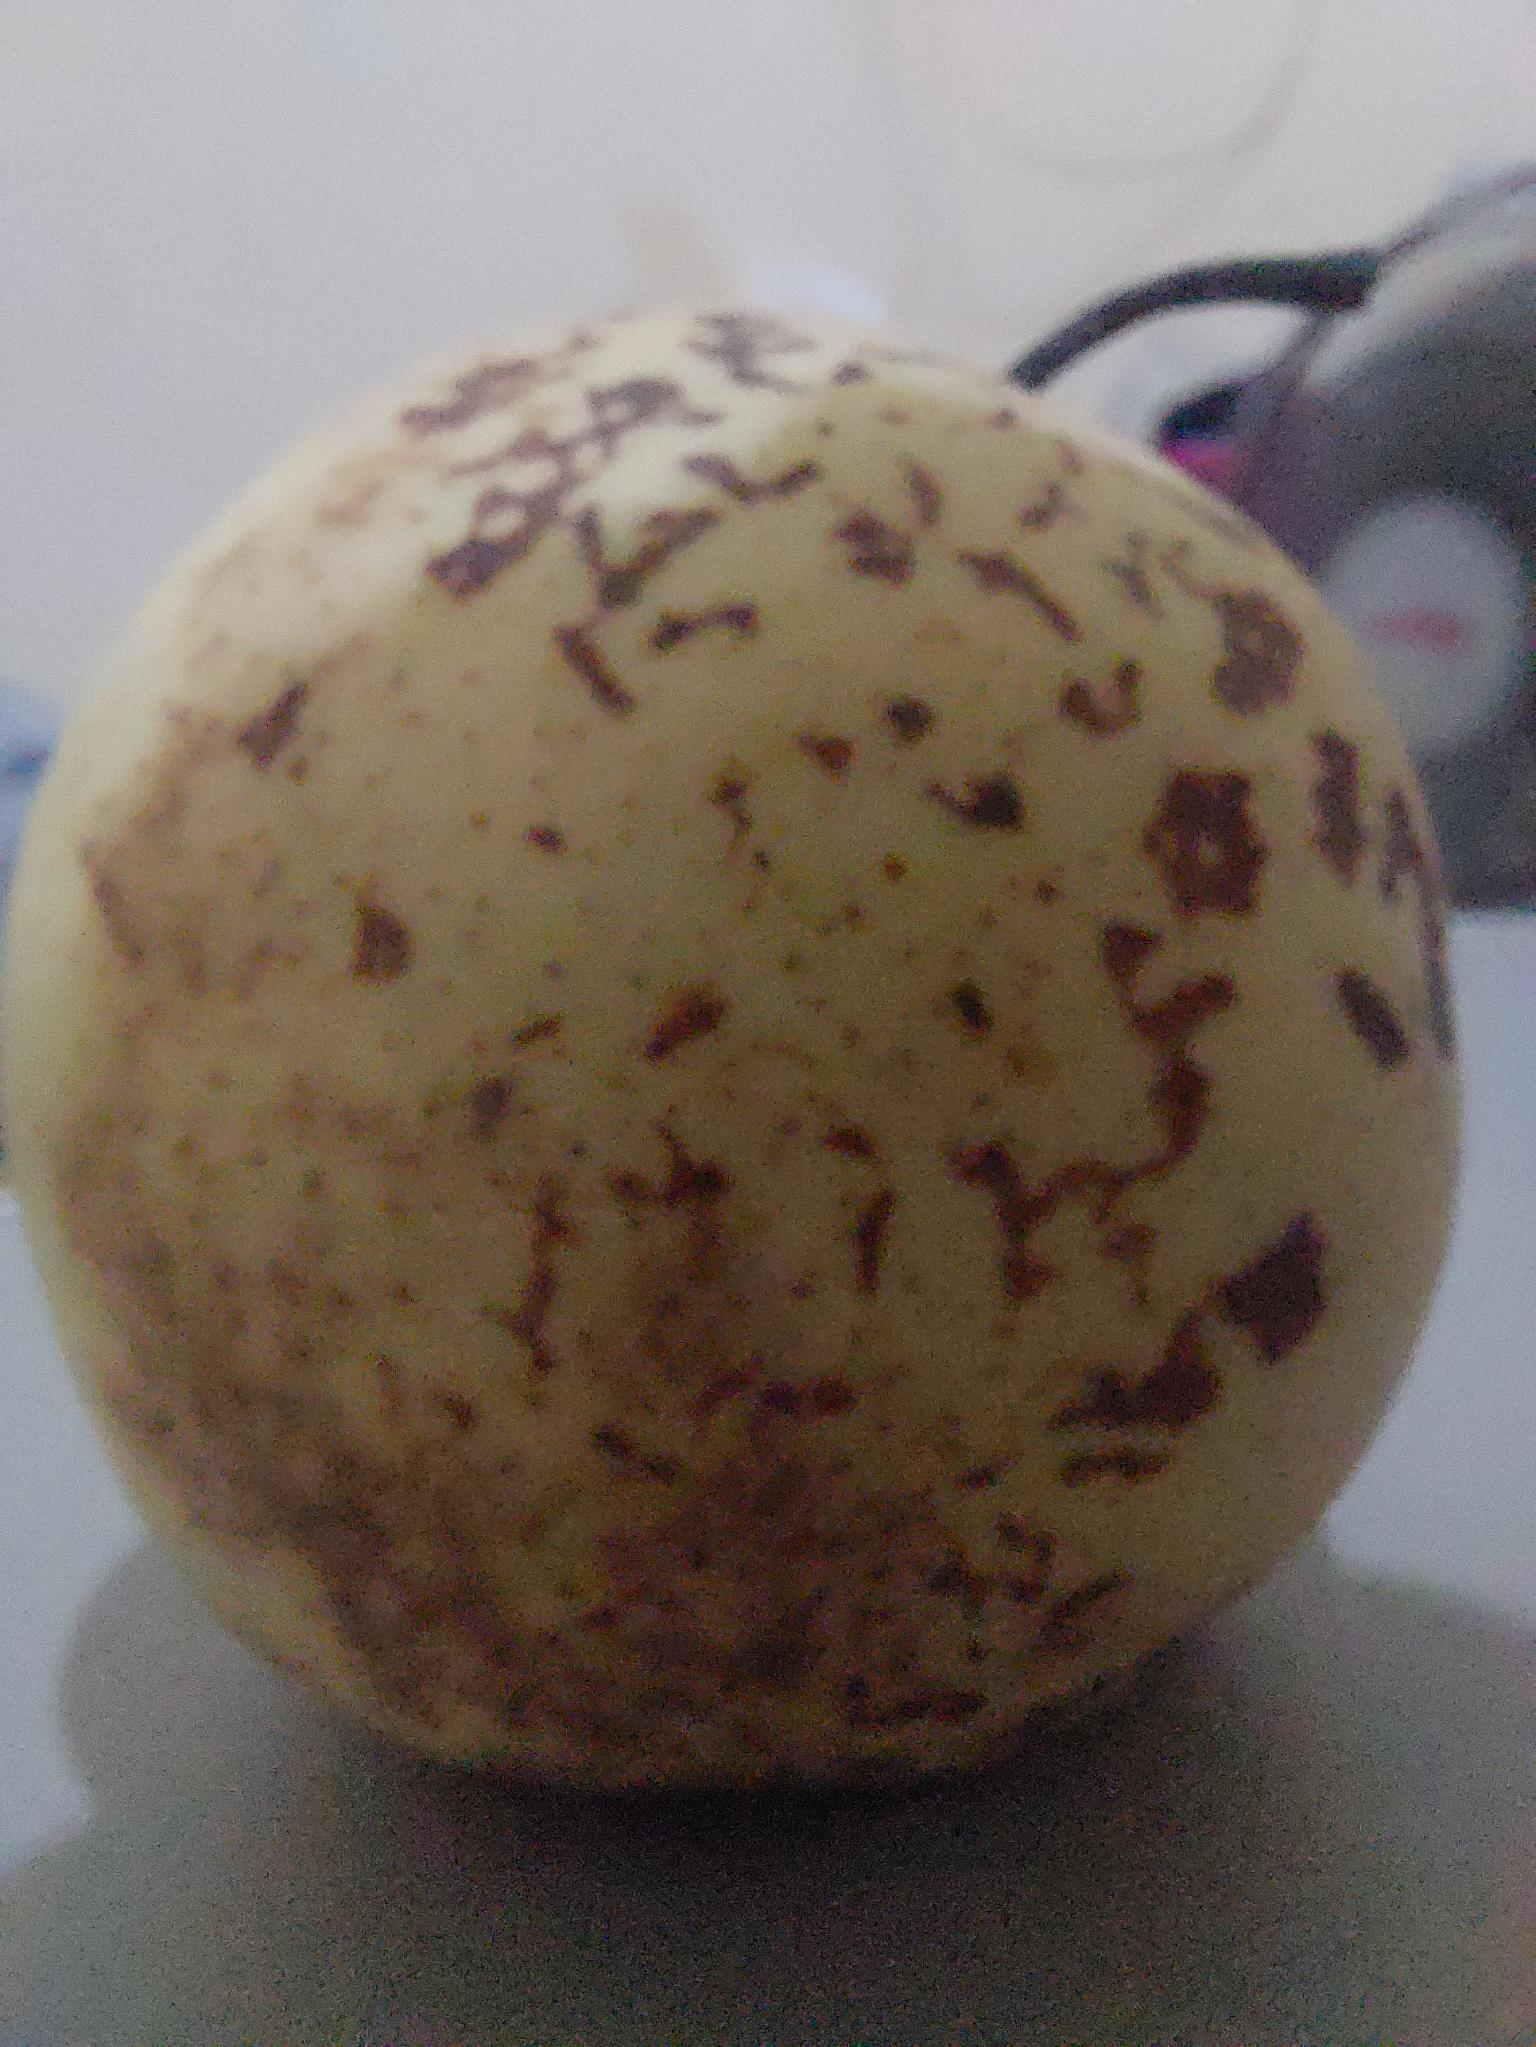Bad Pear: (0, 244, 1478, 1779)
